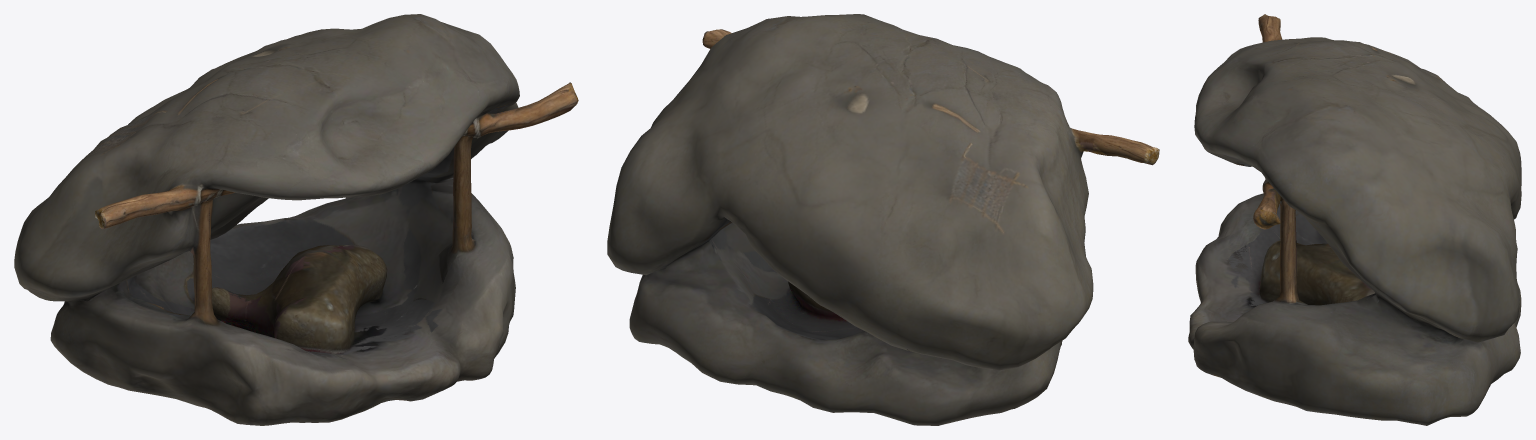
Rendered from an_animal_trap_from_t_0813155012_texture.fbx.
The picture shows the model from 3 angles, left to right: view 1: azimuth 30°, elevation 25°; view 2: azimuth 150°, elevation 25°; view 3: azimuth 270°, elevation 25°; orthographic projection. The views are drawn at different scales.
Parts seen in each view (by area): view 1: input; view 2: input; view 3: input.
Boxes of the visible parts, x1,y1,x2,y2 form: input: (14,14,578,425); input: (607,14,1159,425); input: (1188,14,1521,425).
Size of the model in its own units: 199 by 128 by 133.
Materials: 1 (1 with a texture image).
